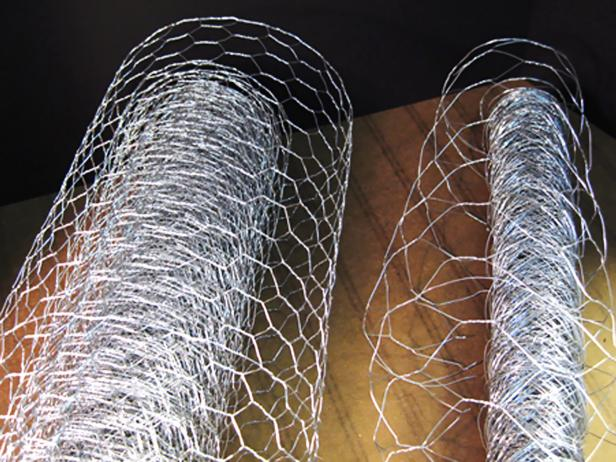Nonrec_Tangler: (30, 26, 347, 452), (397, 38, 610, 455)
